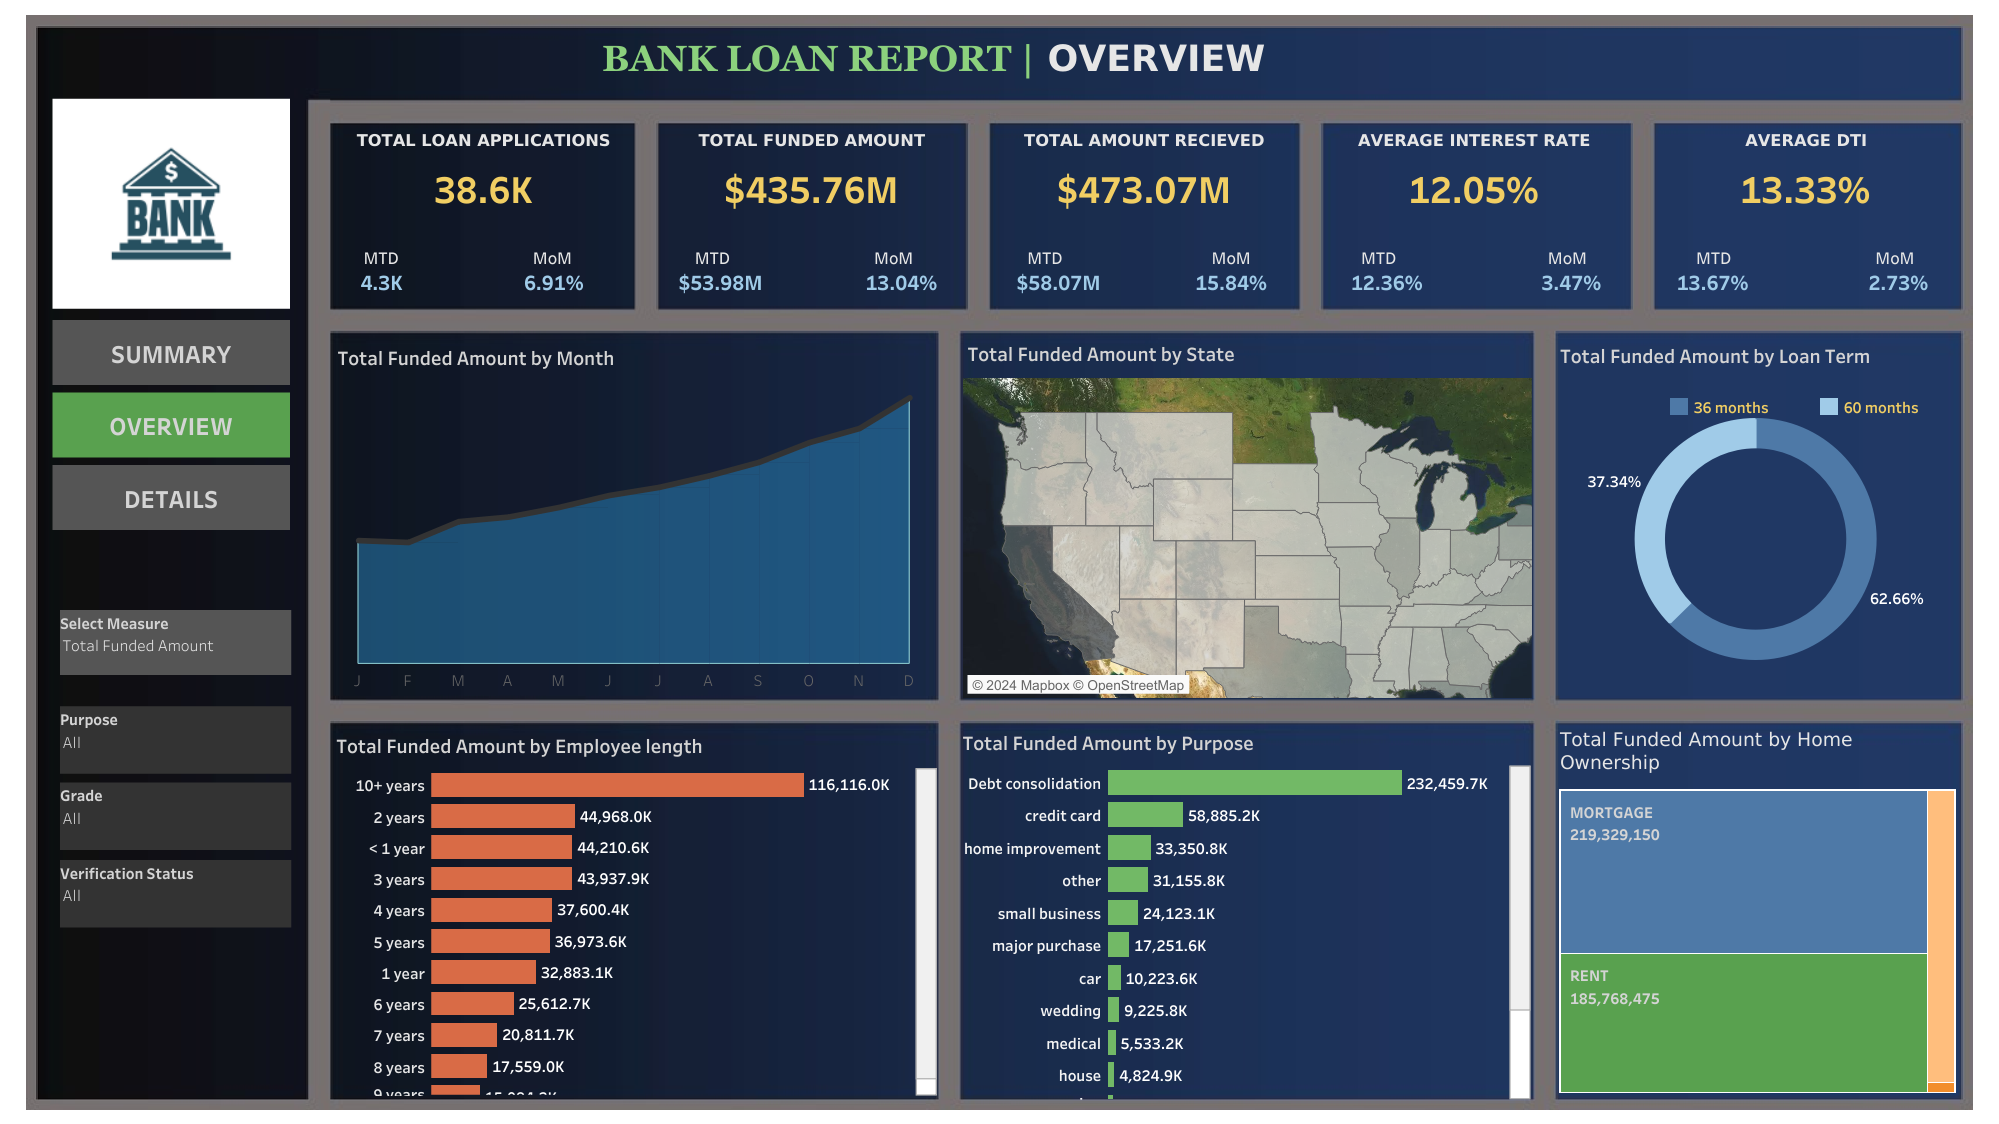

The dashboard page shown, as its layout file describes it:
{"tool":"tableau","page":{"name":"OVERVIEW","canvas":[1600,900],"ordinal":1},"visuals":[{"type":"text","box":[479,4,706,86]},{"type":"image","param":"D:/Tableau Projects/Bank loan Report/Tableau Background 2.jpg","box":[8,8,1584,884]},{"type":"image","param":"C:/Users/SHASHA~1/AppData/Local/Temp/TableauTemp/1jf74ib07juoi0147l8sb0ssamoo/Sh","box":[42,46,190,235]},{"type":"worksheet","title":"Total Loan Applications","mark":"Automatic","box":[270,98,234,147]},{"type":"worksheet","title":"Total Funded Amount","mark":"Automatic","box":[527,98,245,144]},{"type":"worksheet","title":"Total Amount Recieved","mark":"Automatic","box":[794,98,243,145]},{"type":"worksheet","title":"Average Interest Rate ","mark":"Automatic","box":[1057,98,245,145]},{"type":"worksheet","title":"Average Debt To Income Ratio","mark":"Automatic","box":[1324,98,242,149]},{"type":"text","box":[255,190,100,30]},{"type":"text","box":[392,190,100,30]},{"type":"text","box":[520,190,100,30]},{"type":"text","box":[665,190,100,30]},{"type":"text","box":[786,190,100,30]},{"type":"text","box":[935,190,100,30]},{"type":"text","box":[1053,190,100,30]},{"type":"text","box":[1204,190,100,30]},{"type":"text","box":[1321,190,100,30]},{"type":"text","box":[1466,190,100,30]},{"type":"worksheet","title":"MTD Total Loan Applications","mark":"Automatic","box":[270,204,70,44]},{"type":"worksheet","title":"MoM Total Applications","mark":"Automatic","box":[403,204,80,44]},{"type":"worksheet","title":"MTD Total Funded Amount","mark":"Automatic","box":[525,204,104,44]},{"type":"worksheet","title":"MoM Total Funded Amount","mark":"Automatic","box":[674,204,95,44]},{"type":"worksheet","title":"MTD Total Amount Received","mark":"Automatic","box":[795,204,104,44]},{"type":"worksheet","title":"MoM Total Amount Received","mark":"Automatic","box":[935,204,100,44]},{"type":"worksheet","title":"MTD Average Interest Rate","mark":"Automatic","box":[1065,204,90,44]},{"type":"worksheet","title":"MoM Average Interest Rate","mark":"Automatic","box":[1207,204,100,44]},{"type":"worksheet","title":"MTD Debt to Income Ratio","mark":"Automatic","box":[1318,204,105,44]},{"type":"worksheet","title":"MoM Average Debt to Income Ratio","mark":"Automatic","box":[1469,204,100,44]},{"type":"dashboard-object","box":[42,256,190,52]},{"type":"worksheet","title":"State","mark":"Multipolygon","box":[770,266,455,292]},{"type":"worksheet","title":"Loan Tern Analysis","mark":"Pie","rows":["Calculation_1155173353997959169","Calculation_1155173353997987843"],"box":[1244,267,321,292]},{"type":"worksheet","title":"Month","mark":"Area","rows":["Calculation_275282576618680332","Calculation_275282576618680332"],"cols":["issue_date"],"box":[266,269,481,284]},{"type":"dashboard-object","box":[42,314,190,52]},{"type":"legend","title":"Loan Tern Analysis","param":"[federated.1sg2grt0dcenkg16ob9ce0p8toyc].[none:term:nk]","box":[1333,315,251,38]},{"type":"dashboard-object","box":[42,372,190,52]},{"type":"parameter","param":"[Parameters].[Parameter 1]","box":[48,488,185,52]},{"type":"filter","title":"Average Debt To Income Ratio","param":"[federated.1sg2grt0dcenkg16ob9ce0p8toyc].[none:purpose:nk]","box":[48,565,185,54]},{"type":"worksheet","title":"Loan Purpose","mark":"Automatic","rows":["purpose"],"cols":["Calculation_275282576618680332"],"box":[766,577,459,302]},{"type":"worksheet","title":"Home Ownership","mark":"Automatic","box":[1244,577,324,301]},{"type":"worksheet","title":"Employee Length","mark":"Automatic","rows":["emp_length"],"cols":["Calculation_275282576618680332"],"box":[265,579,485,297]},{"type":"filter","title":"Average Debt To Income Ratio","param":"[federated.1sg2grt0dcenkg16ob9ce0p8toyc].[none:grade:nk]","box":[48,626,185,54]},{"type":"filter","title":"Average Debt To Income Ratio","param":"[federated.1sg2grt0dcenkg16ob9ce0p8toyc].[none:verification_status:nk]","box":[48,688,185,54]}]}

Visuals, with their boxes in screenshot pixels (x1, y1, x2, y2), scaled from the page's 1600x900 canvas onto the 1999x1124 screenshot:
text: locate(598, 5, 1481, 112)
image: locate(10, 10, 1989, 1114)
image: locate(52, 57, 290, 351)
"Total Loan Applications" worksheet: locate(337, 122, 630, 306)
"Total Funded Amount" worksheet: locate(658, 122, 965, 302)
"Total Amount Recieved" worksheet: locate(992, 122, 1296, 303)
"Average Interest Rate " worksheet: locate(1321, 122, 1627, 303)
"Average Debt To Income Ratio" worksheet: locate(1654, 122, 1957, 308)
text: locate(319, 237, 444, 275)
text: locate(490, 237, 615, 275)
text: locate(650, 237, 775, 275)
text: locate(831, 237, 956, 275)
text: locate(982, 237, 1107, 275)
text: locate(1168, 237, 1293, 275)
text: locate(1316, 237, 1441, 275)
text: locate(1504, 237, 1629, 275)
text: locate(1650, 237, 1775, 275)
text: locate(1832, 237, 1957, 275)
"MTD Total Loan Applications" worksheet: locate(337, 255, 425, 310)
"MoM Total Applications" worksheet: locate(503, 255, 603, 310)
"MTD Total Funded Amount" worksheet: locate(656, 255, 786, 310)
"MoM Total Funded Amount" worksheet: locate(842, 255, 961, 310)
"MTD Total Amount Received" worksheet: locate(993, 255, 1123, 310)
"MoM Total Amount Received" worksheet: locate(1168, 255, 1293, 310)
"MTD Average Interest Rate" worksheet: locate(1331, 255, 1443, 310)
"MoM Average Interest Rate" worksheet: locate(1508, 255, 1633, 310)
"MTD Debt to Income Ratio" worksheet: locate(1647, 255, 1778, 310)
"MoM Average Debt to Income Ratio" worksheet: locate(1835, 255, 1960, 310)
dashboard-object: locate(52, 320, 290, 385)
"State" worksheet (Multipolygon marks): locate(962, 332, 1530, 697)
"Loan Tern Analysis" worksheet (Pie marks): locate(1554, 333, 1955, 698)
"Month" worksheet (Area marks): locate(332, 336, 933, 691)
dashboard-object: locate(52, 392, 290, 457)
"Loan Tern Analysis" legend: locate(1665, 393, 1979, 441)
dashboard-object: locate(52, 465, 290, 530)
parameter: locate(60, 609, 291, 674)
"Average Debt To Income Ratio" filter: locate(60, 706, 291, 773)
"Loan Purpose" worksheet: locate(957, 721, 1530, 1098)
"Home Ownership" worksheet: locate(1554, 721, 1959, 1097)
"Employee Length" worksheet: locate(331, 723, 937, 1094)
"Average Debt To Income Ratio" filter: locate(60, 782, 291, 849)
"Average Debt To Income Ratio" filter: locate(60, 859, 291, 927)
